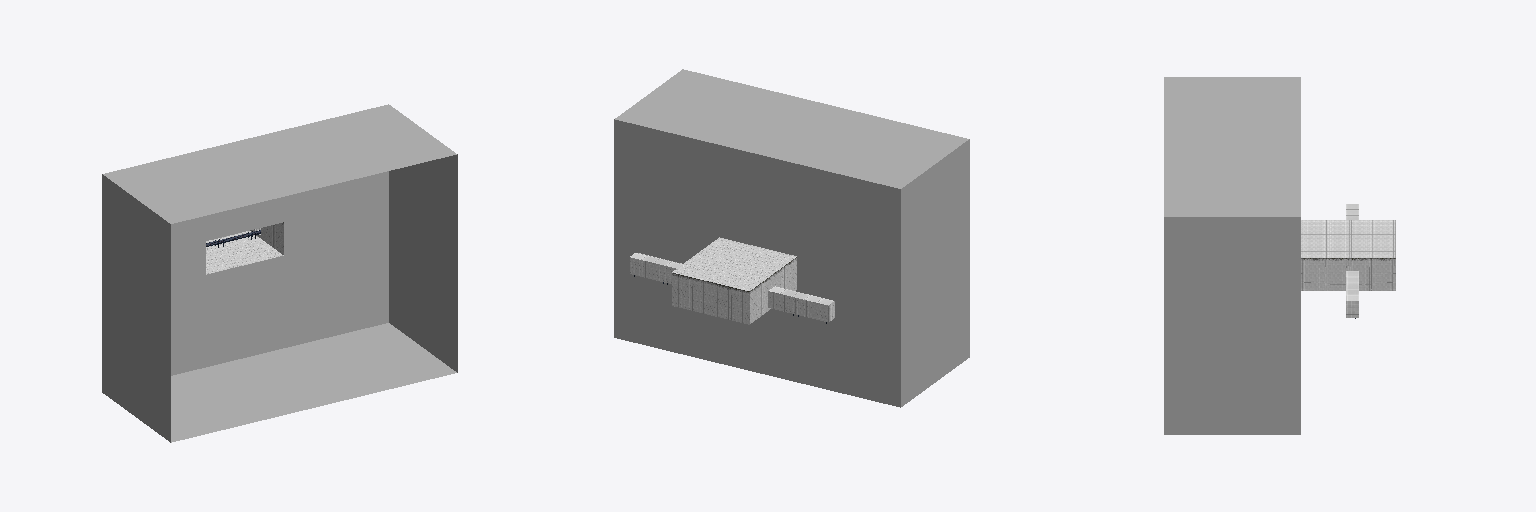
3 renders of one model, left to right at view 1: azimuth 30°, elevation 25°; view 2: azimuth 150°, elevation 25°; view 3: azimuth 270°, elevation 25°, orthographic.
Visible parts, largest first — view 1: Walls_Cube; view 2: Walls_Cube; view 3: Walls_Cube.
Boxes of the visible parts, box(x1,y1,x2,y2) form: Walls_Cube: box(102, 104, 457, 442); Walls_Cube: box(614, 69, 969, 407); Walls_Cube: box(1164, 77, 1395, 434).
Size of the model in its own units: 184 by 134 by 130.
Materials: 7 (5 with a texture image).